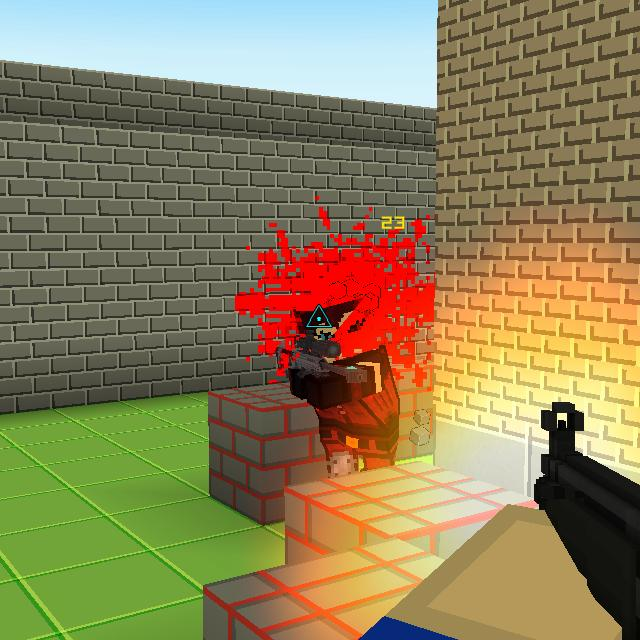enemy: (283, 280, 412, 480)
